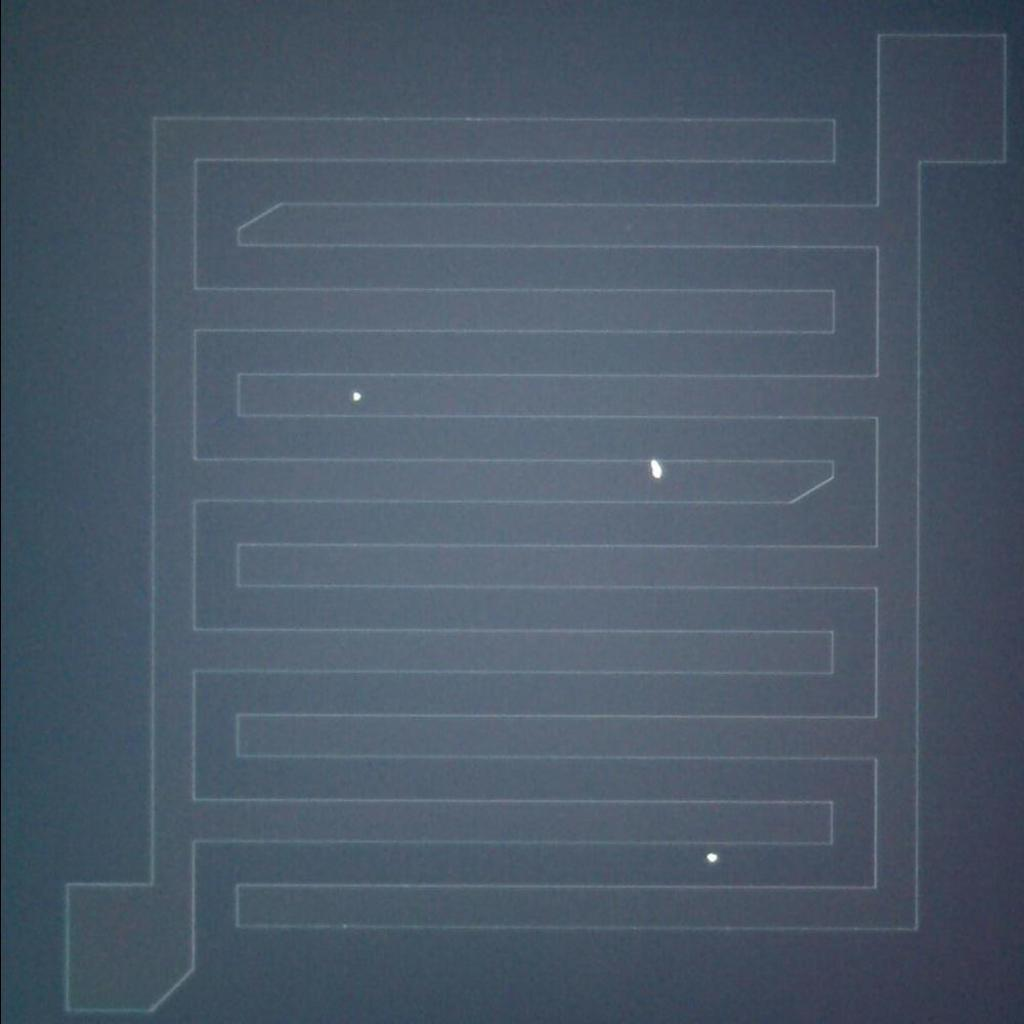edge circuit: (139, 951, 205, 1020), (224, 195, 295, 255), (780, 448, 842, 514)
spot: (645, 454, 667, 488), (699, 841, 725, 868), (346, 386, 368, 409)
